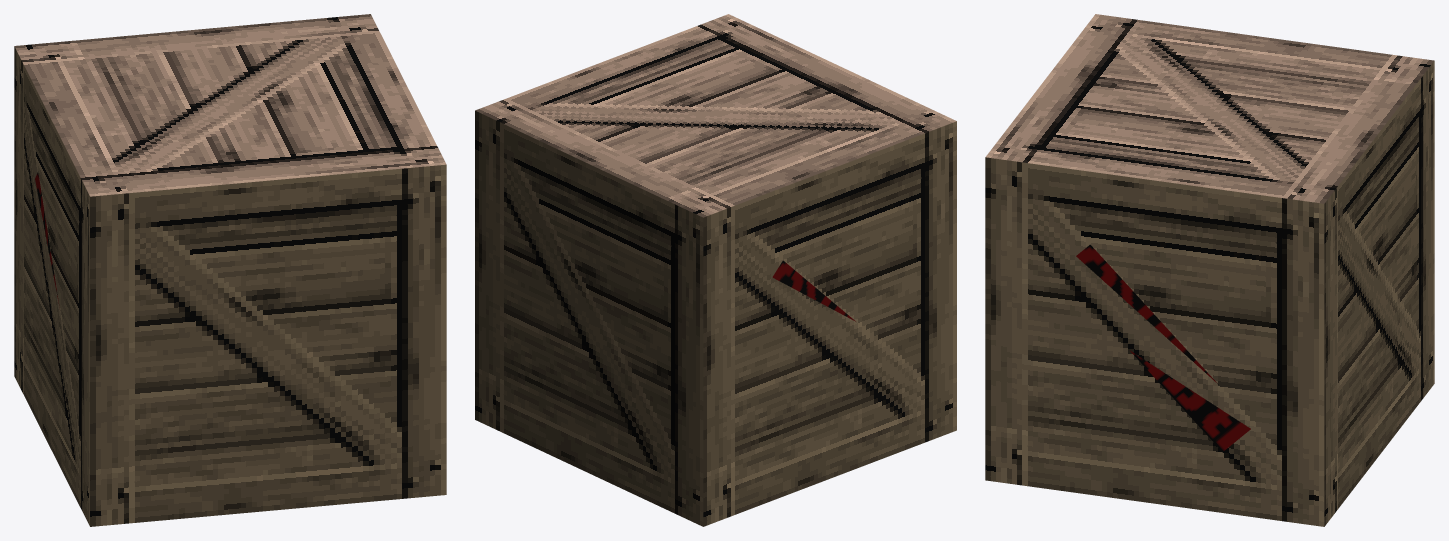
Rendered from primary_087.glb.
The picture shows the model from 3 angles, left to right: view 1: azimuth 30°, elevation 25°; view 2: azimuth 150°, elevation 25°; view 3: azimuth 270°, elevation 25°; orthographic projection. The views are drawn at different scales.
Parts seen in each view (by area): view 1: Object; view 2: Object; view 3: Object.
Boxes of the visible parts, x1,y1,x2,y2 form: Object: (14,14,446,526); Object: (475,14,956,526); Object: (985,14,1434,526).
Bounding box in the file's own units: 1.55 × 1.23 × 1.55.
7 materials, 7 textured.
